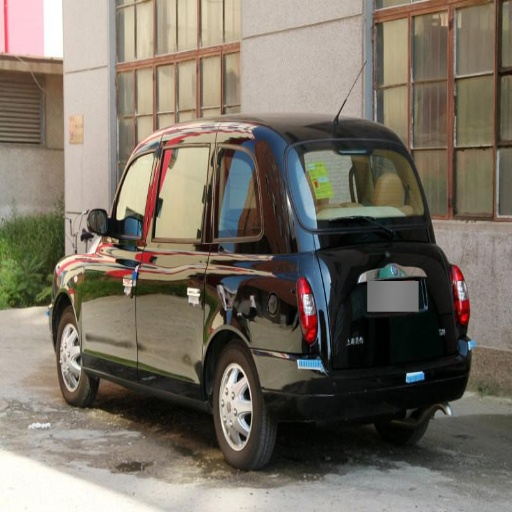back_bumper: (268, 326, 470, 420)
back_glass: (348, 154, 419, 212)
back_left_door: (138, 235, 200, 382)
trunk: (313, 217, 452, 368), (203, 259, 301, 384)
